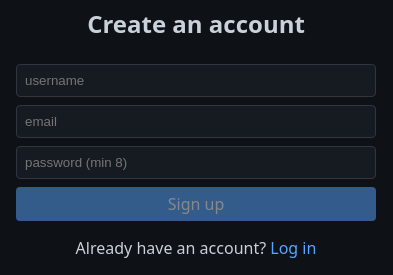
Test case: SignupPage › disables the submit button until username, email, and password are all filled
Expected: the button "Sign up" is disabled, [16,187,376,221]
Step 1. Type "alice" into the field with placeholder "username" → (196,80), box [16,64,376,97]
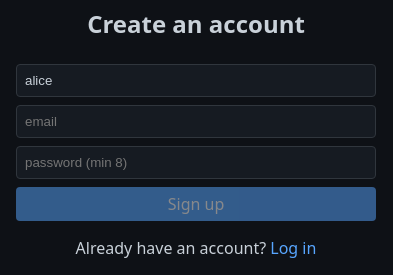
Step 2. Type "a@example.com" into the field with placeholder "email" → (196,122), box [16,105,376,138]
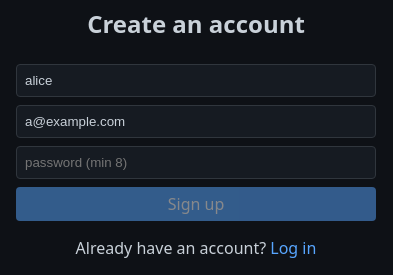
Expected: the button "Sign up" is disabled, [16,187,376,221]
Step 3. Type "password1" into the password field with placeholder "password (min 8)" → (196,162), box [16,146,376,179]
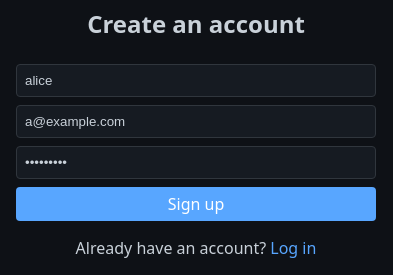
Expected: the button "Sign up" is enabled, [16,187,376,221]
